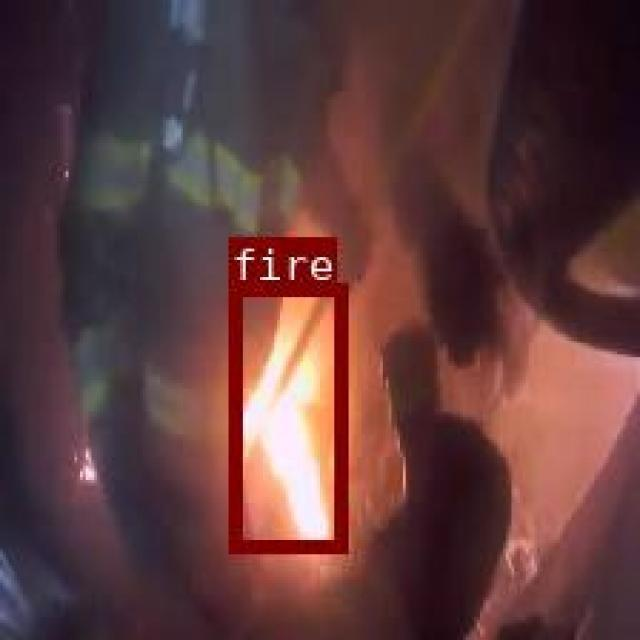fire: (228, 282, 345, 549)
